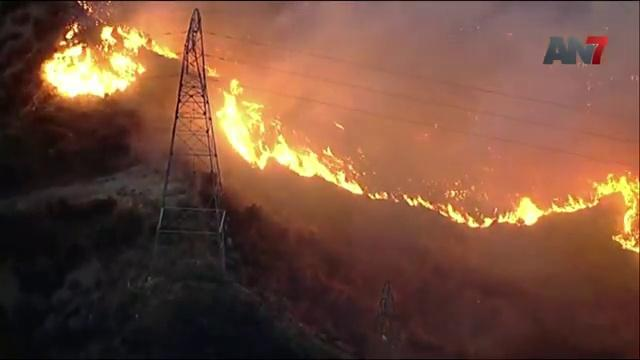fire: (45, 49, 139, 94), (280, 145, 336, 182), (225, 93, 256, 158), (599, 179, 633, 198), (515, 205, 543, 222)
